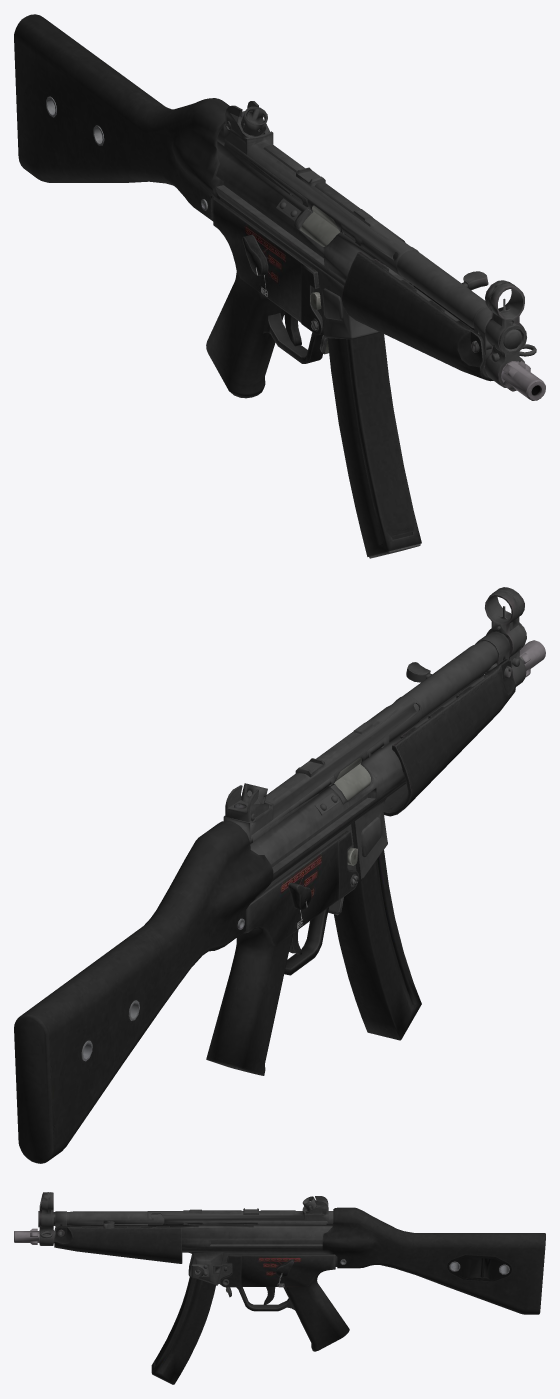
3 views of the same model, one above another, from view 1: azimuth 30°, elevation 25°; view 2: azimuth 150°, elevation 25°; view 3: azimuth 270°, elevation 25° (orthographic). The views are drawn at different scales.
Parts seen in each view (by area): view 1: Malha; view 2: Malha; view 3: Malha.
Part boxes in pixels (bbox=[...]): Malha: bbox=[14, 14, 545, 558]; Malha: bbox=[14, 587, 545, 1163]; Malha: bbox=[14, 1192, 545, 1384].
Size of the model in its own units: 0.0573 by 0.2653 by 0.6799.
5 materials, 5 textured.
